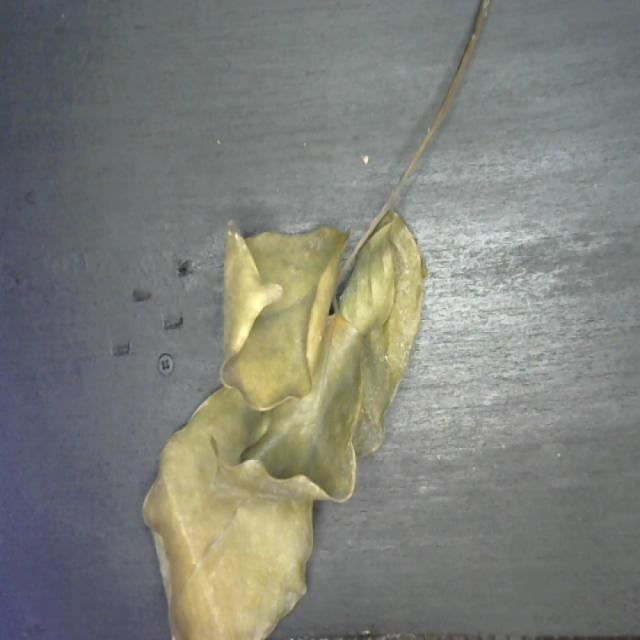biodegradable: (132, 201, 427, 640)
